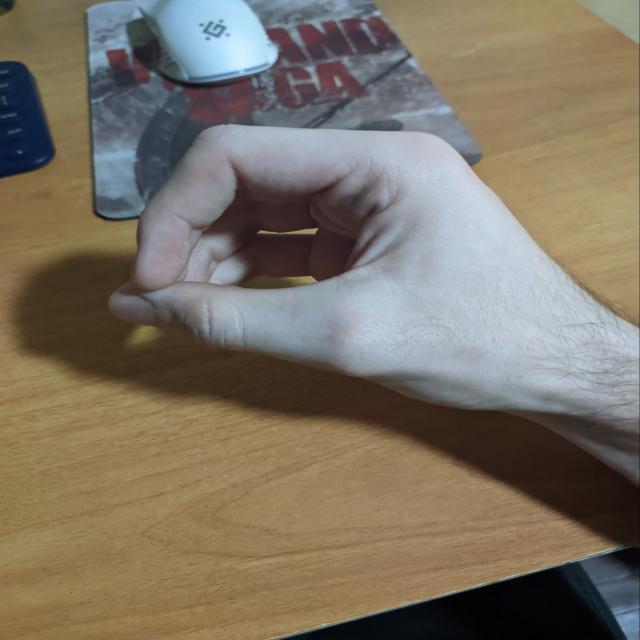e: (122, 94, 557, 424)
